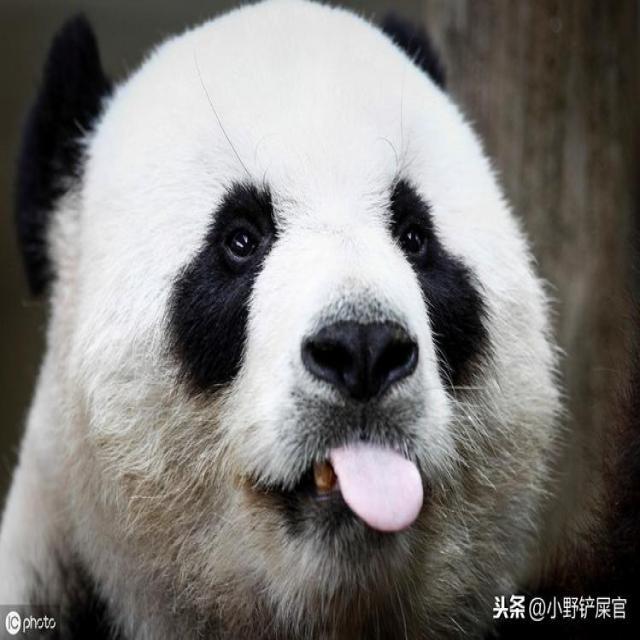panda: (0, 0, 572, 640)
